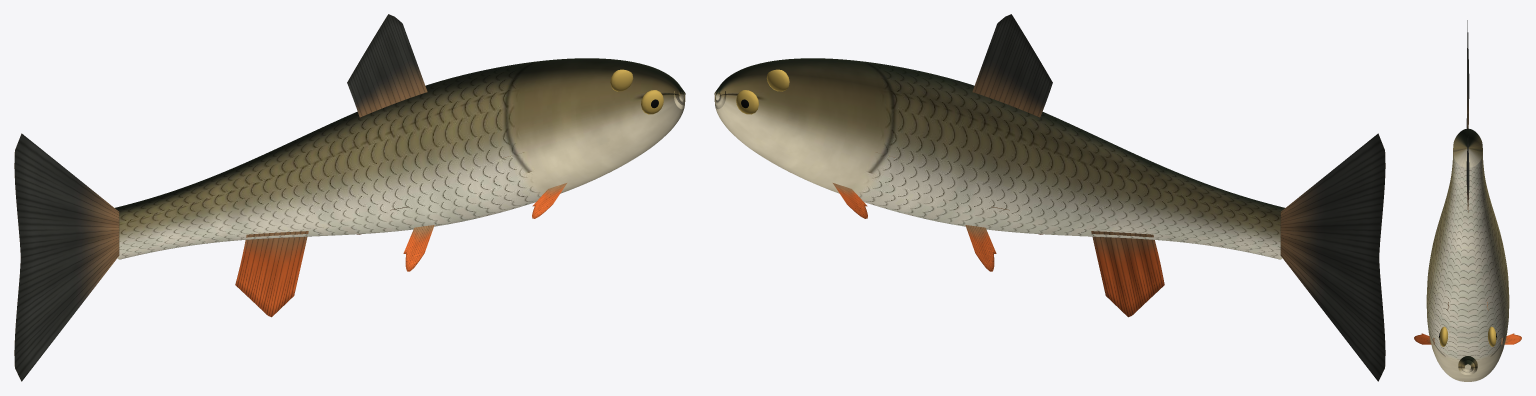
Rendered from fish_chub.gltf.
3 renders of one model, left to right at view 1: azimuth 30°, elevation 25°; view 2: azimuth 150°, elevation 25°; view 3: azimuth 270°, elevation 25°, orthographic. The views are drawn at different scales.
Parts seen in each view (by area): view 1: fish_chub; view 2: fish_chub; view 3: fish_chub.
Boxes of the visible parts, x1=… form: fish_chub: x1=14, y1=14, x2=685, y2=381; fish_chub: x1=714, y1=14, x2=1385, y2=381; fish_chub: x1=1414, y1=20, x2=1521, y2=381.
Bounding box in the file's own units: 0.4135 × 0.1639 × 0.0728.
Materials: 6 (4 with a texture image).
